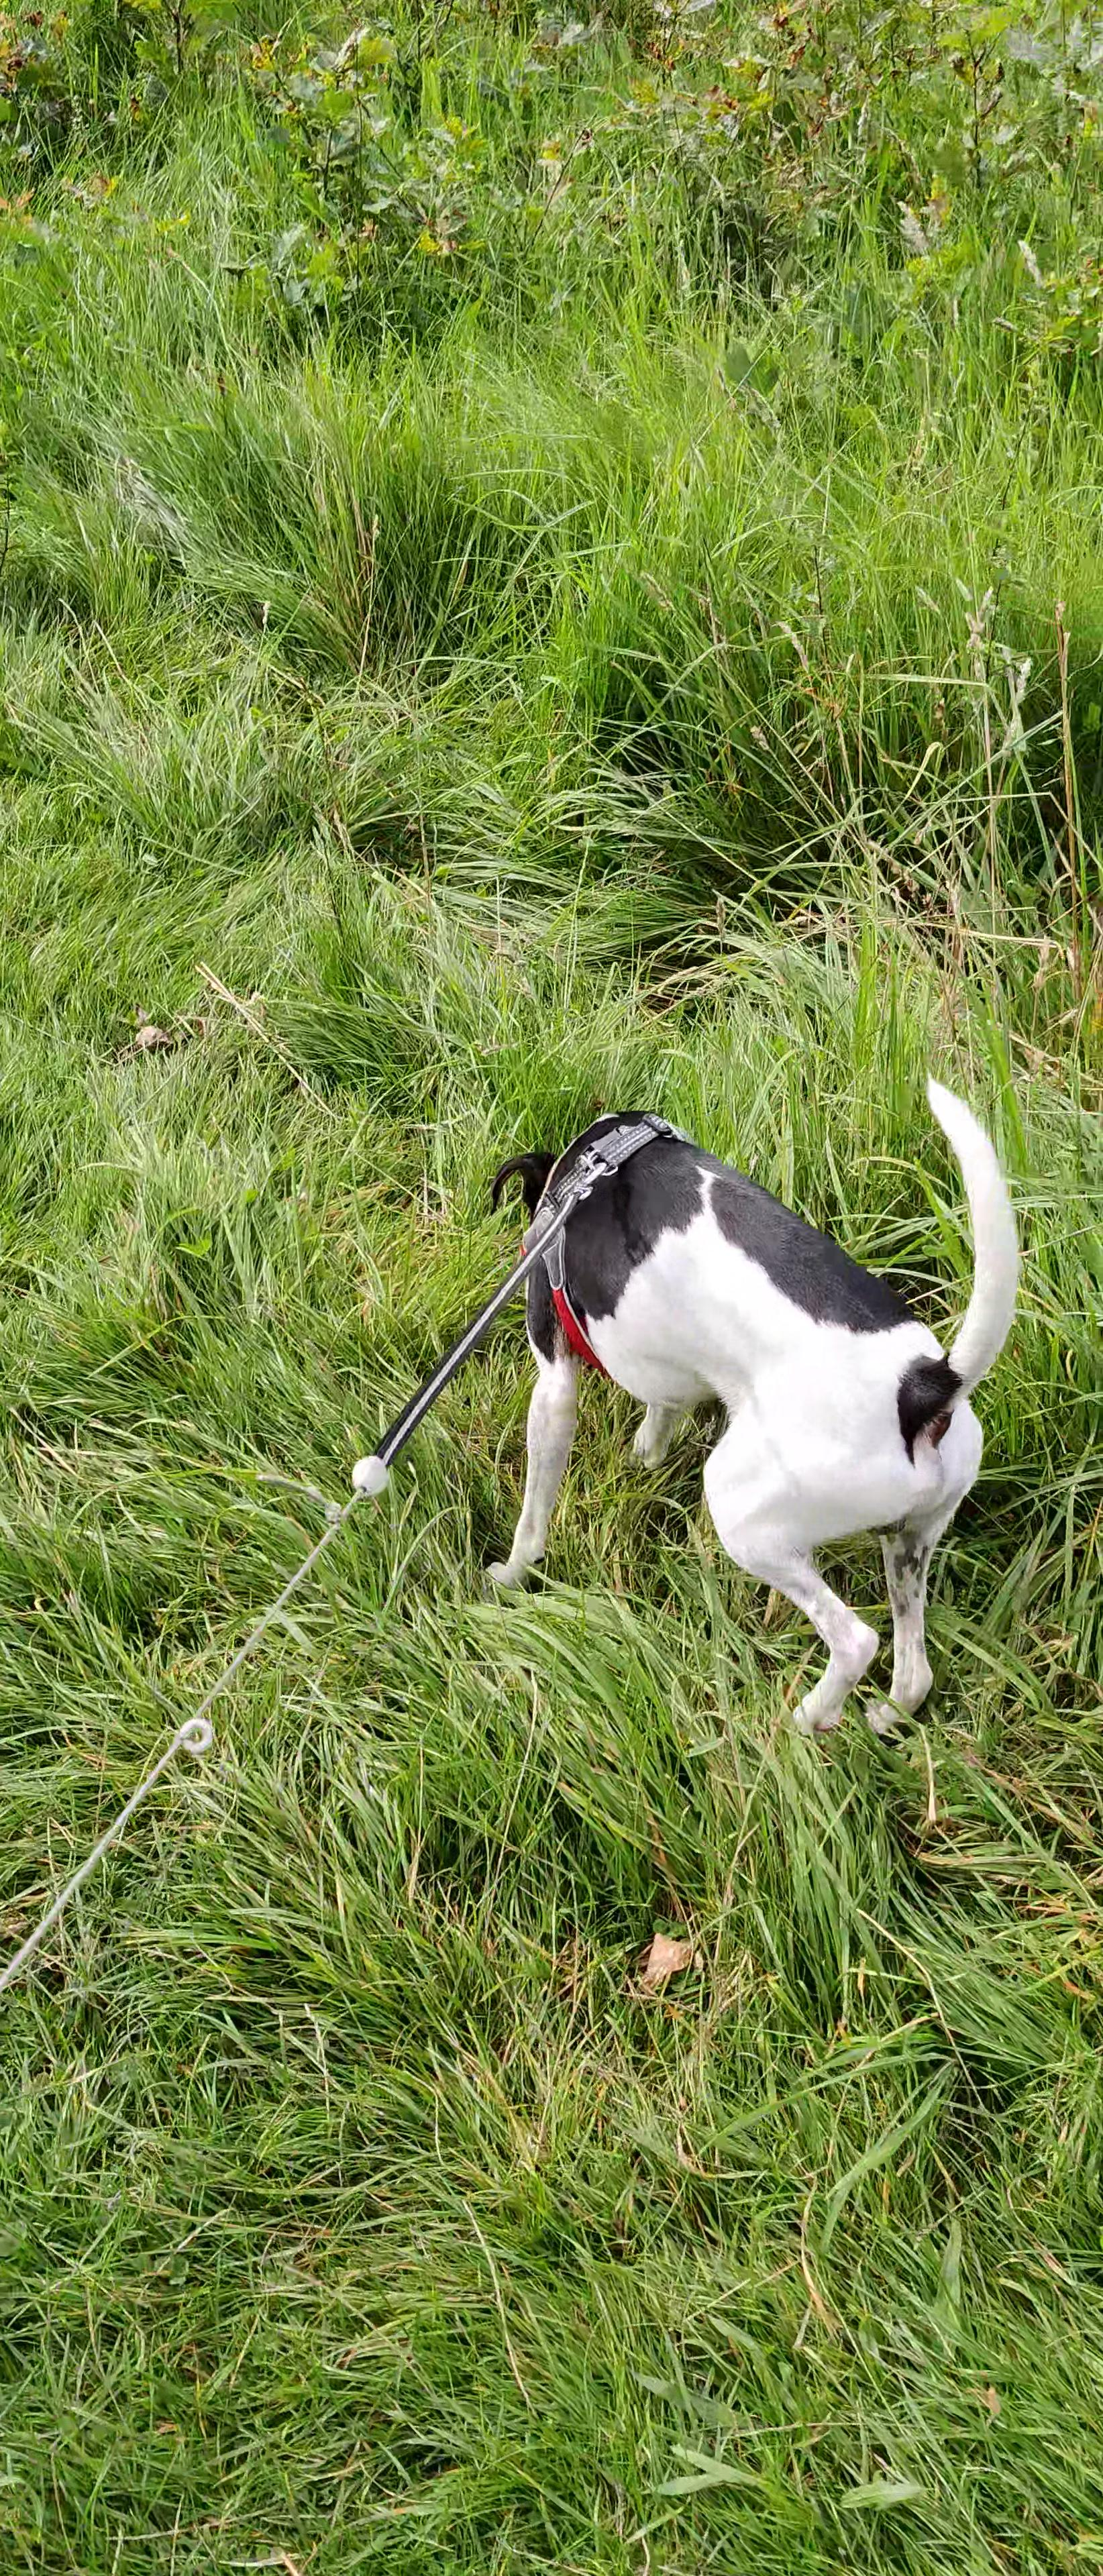Dog: (483, 1068, 1026, 1748)
